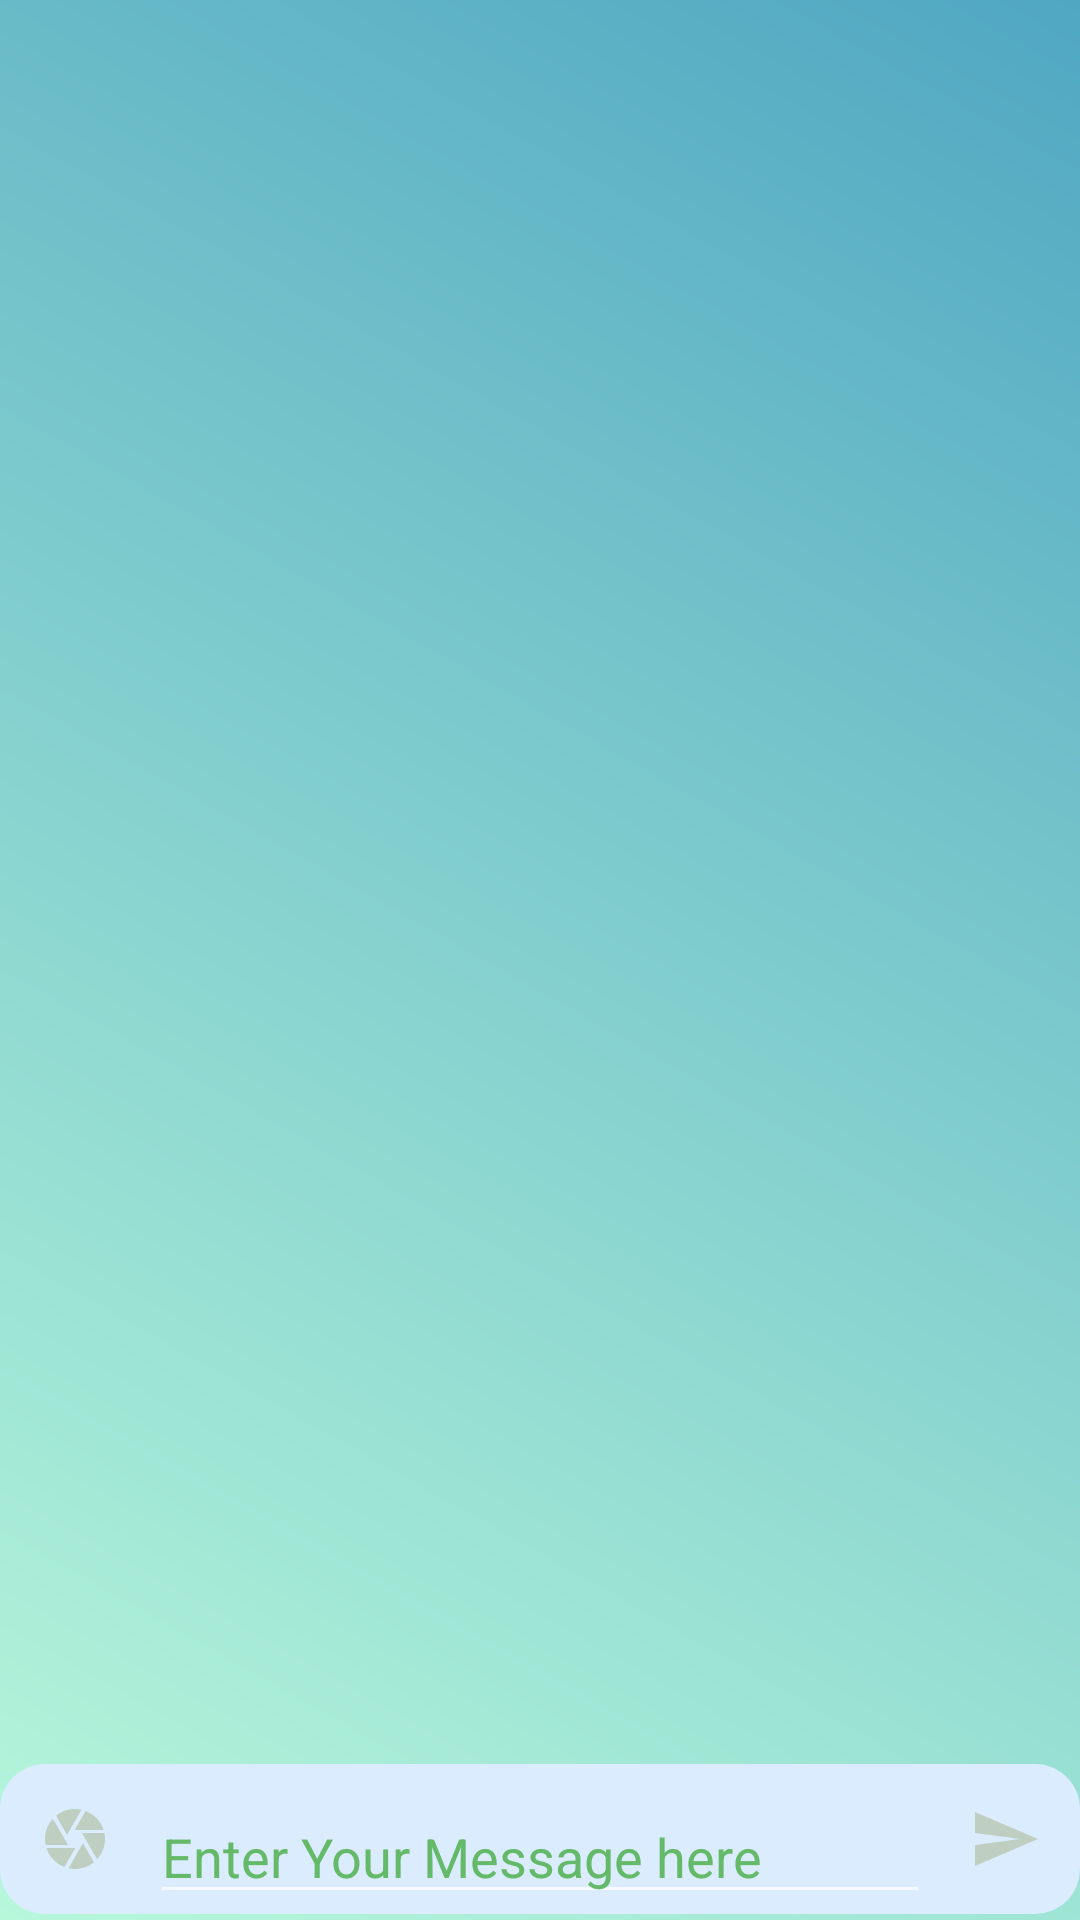

Screen size 1080x1920. Icon name, then its center in pixels as (x,y):
camera: (75,1839)
send: (1005,1839)
